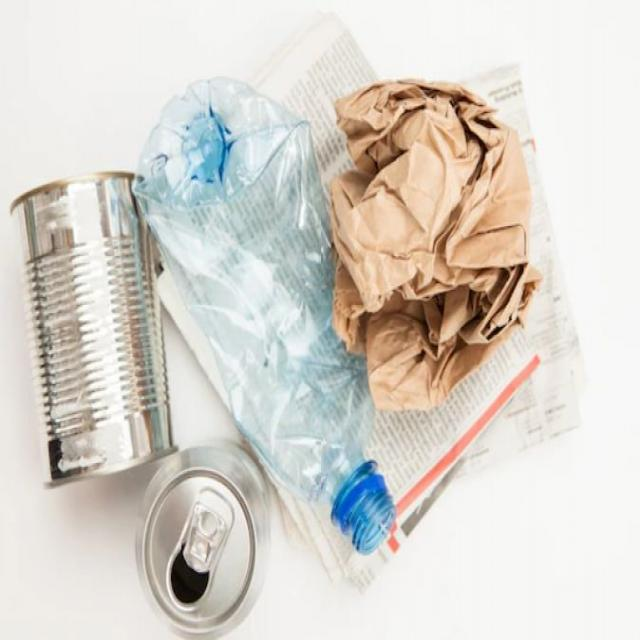metal: (8, 160, 181, 494), (132, 440, 273, 636)
paper: (327, 75, 546, 418)
plastic: (130, 72, 396, 556)
